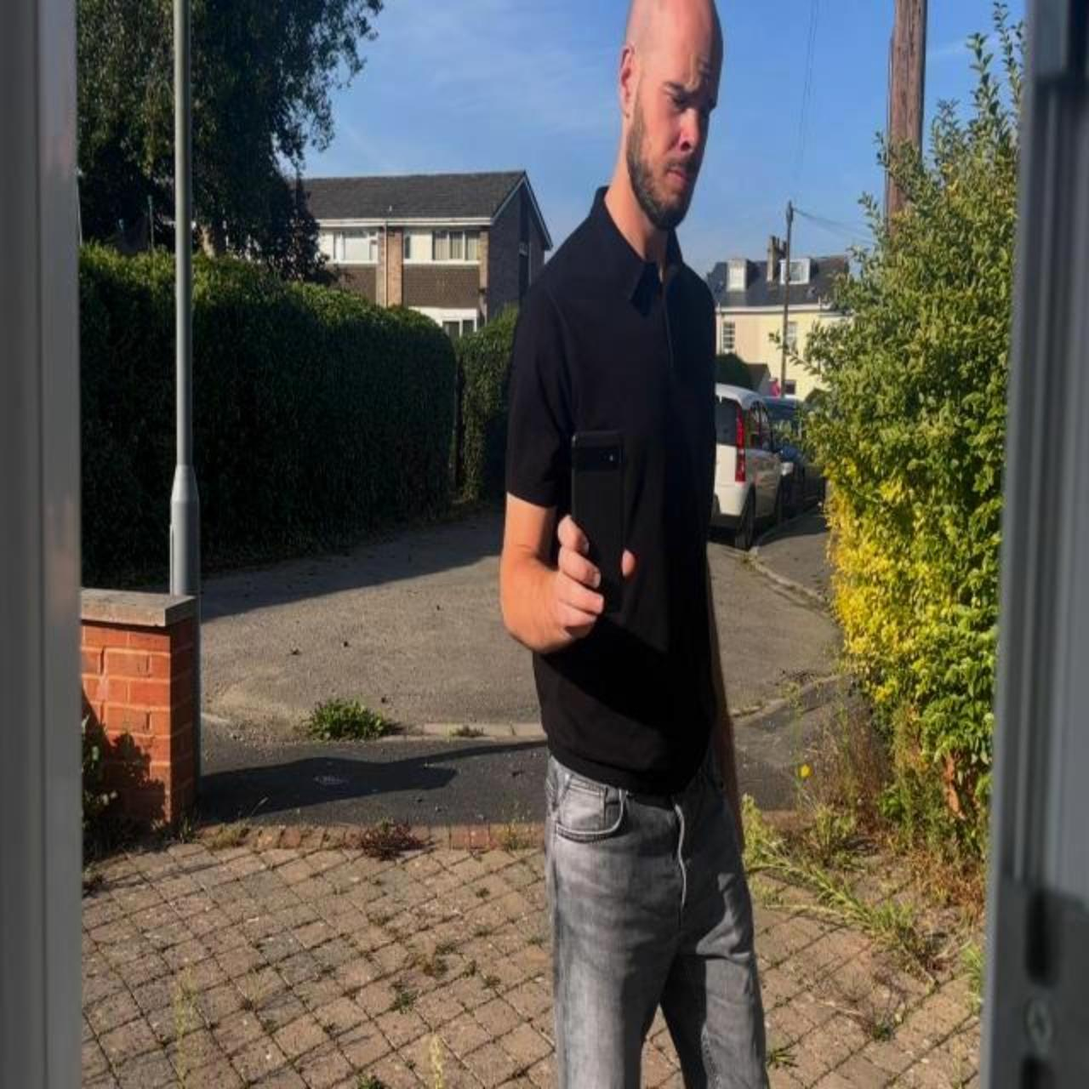phone: (570, 430, 626, 616)
